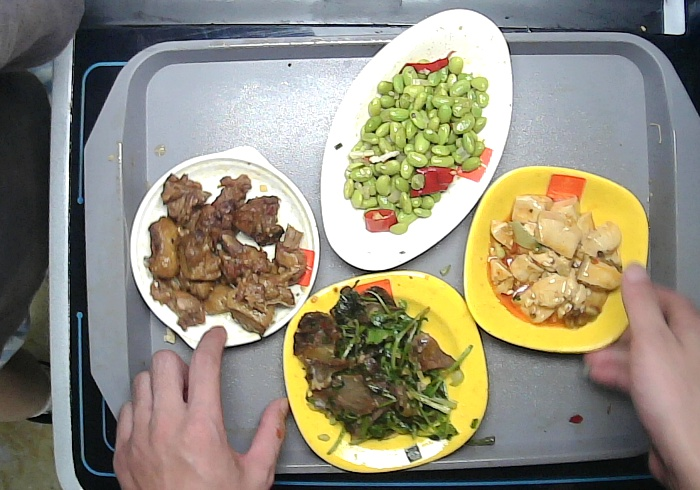SHKJ-Bao_Yu_Pan: (130, 146, 321, 351)
SHKJ-Huang_Se_Cai_Die: (463, 166, 648, 353)
SHKJ-Huang_Se_Si_Fang_Cai_Die: (283, 271, 488, 473)
SHKJ-Yu_Pan: (322, 8, 513, 270)
